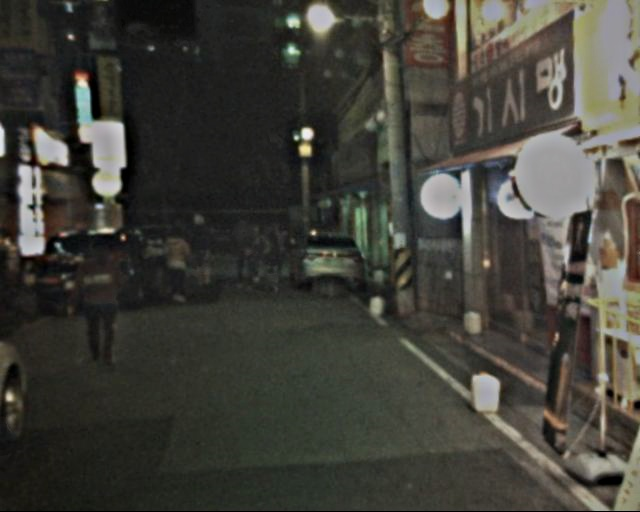person: (74, 231, 132, 366), (158, 222, 194, 308), (187, 206, 220, 291), (232, 212, 261, 293), (258, 220, 286, 298)
